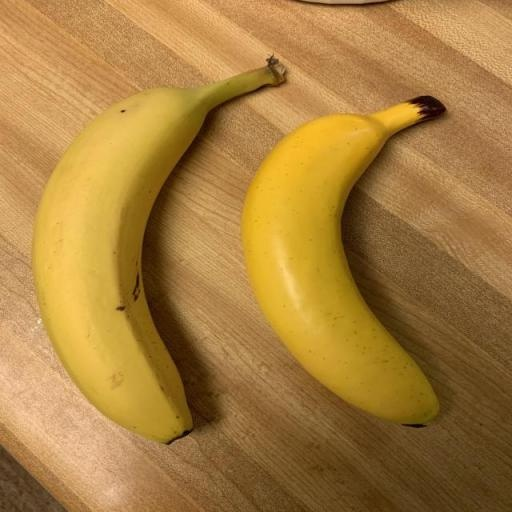fruit: (32, 59, 283, 442), (243, 97, 444, 424)
